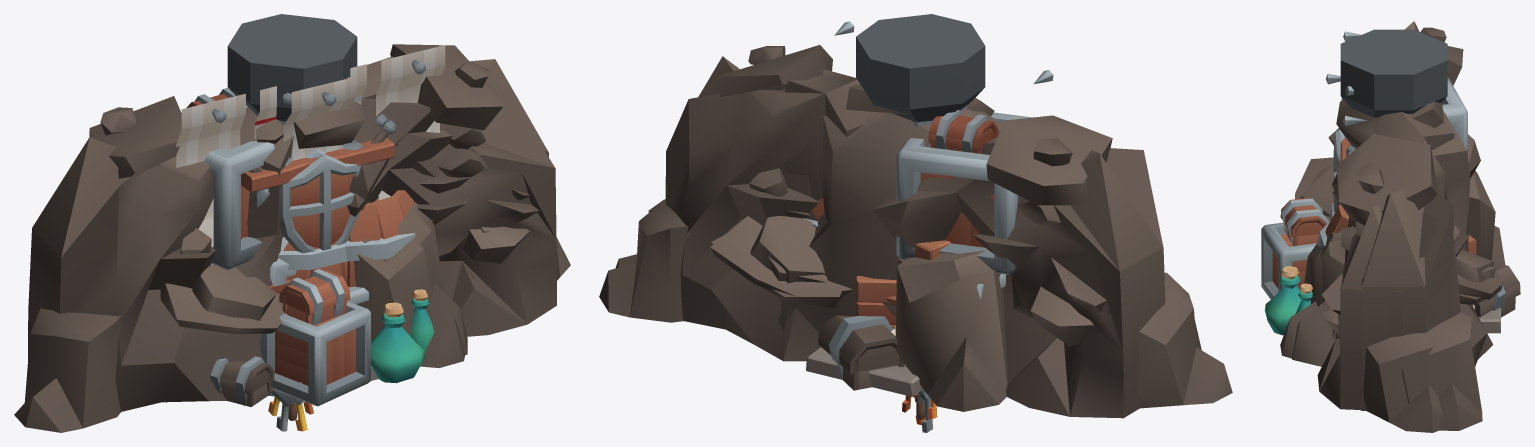
The model's file is props.glb.
The picture shows the model from 3 angles, left to right: view 1: azimuth 30°, elevation 25°; view 2: azimuth 150°, elevation 25°; view 3: azimuth 270°, elevation 25°; orthographic projection. The views are drawn at different scales.
Parts seen in each view (by area): view 1: rubble_large, box_stacked, pillar_decorated, rubble_half, banner_triple_white, shelves, p:barrel_large, keyring_hanging; view 2: rubble_large, rubble_half, box_stacked, pillar_decorated, crates_stacked, bed_floor, keyring_hanging; view 3: rubble_half, rubble_large, pillar_decorated, box_stacked, bed_floor, banner_triple_white.
Part boxes in pixels (x1,y1,x2,y2): rubble_large: (14, 84, 570, 432); box_stacked: (181, 87, 434, 406); pillar_decorated: (227, 14, 396, 253); rubble_half: (349, 44, 548, 355); banner_triple_white: (176, 45, 445, 264); shelves: (241, 137, 394, 293); p:barrel_large: (278, 241, 347, 285); keyring_hanging: (268, 397, 313, 431); rubble_large: (615, 66, 1232, 418); rubble_half: (599, 45, 869, 361); box_stacked: (803, 110, 1032, 390); pillar_decorated: (856, 14, 985, 127); crates_stacked: (856, 240, 950, 328); bed_floor: (806, 328, 922, 396); keyring_hanging: (902, 389, 937, 432); rubble_half: (1292, 112, 1502, 430); rubble_large: (1280, 21, 1505, 432); pillar_decorated: (1326, 29, 1447, 211); box_stacked: (1261, 78, 1520, 335); bed_floor: (1473, 304, 1500, 333); banner_triple_white: (1343, 31, 1368, 126).
Bounding box in the file's own units: 8.13 × 5.2 × 3.63.
8 materials, 8 textured.
